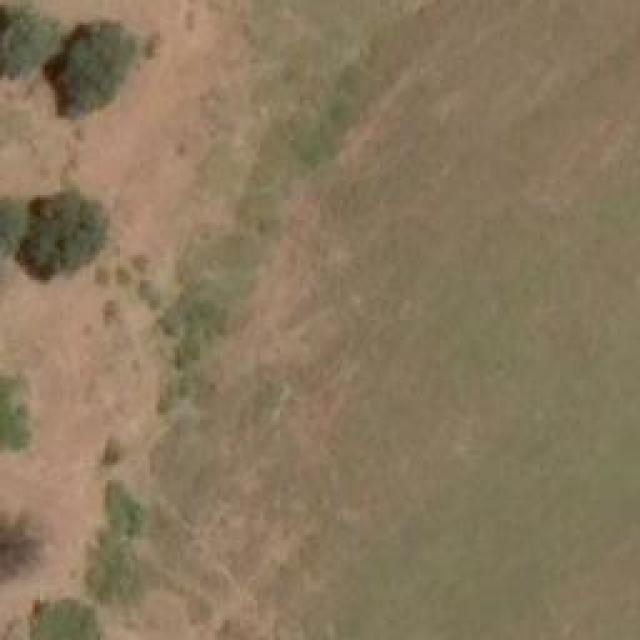Tree: (55, 20, 130, 113), (22, 190, 100, 275), (0, 10, 55, 75), (30, 598, 97, 640)
